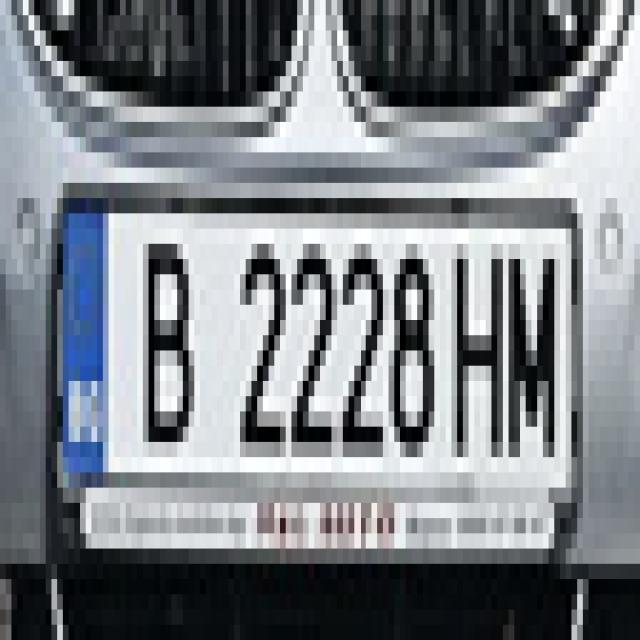8: (390, 237, 439, 465)
B: (138, 224, 200, 457)
H: (452, 234, 505, 465)
M: (506, 231, 562, 461)
